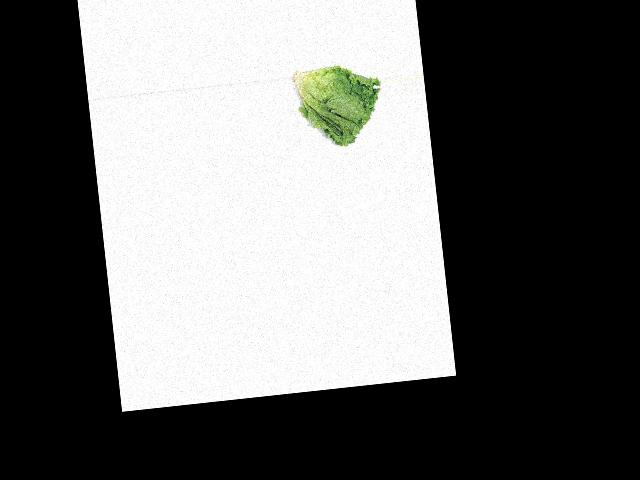lettuce: (270, 59, 380, 173)
